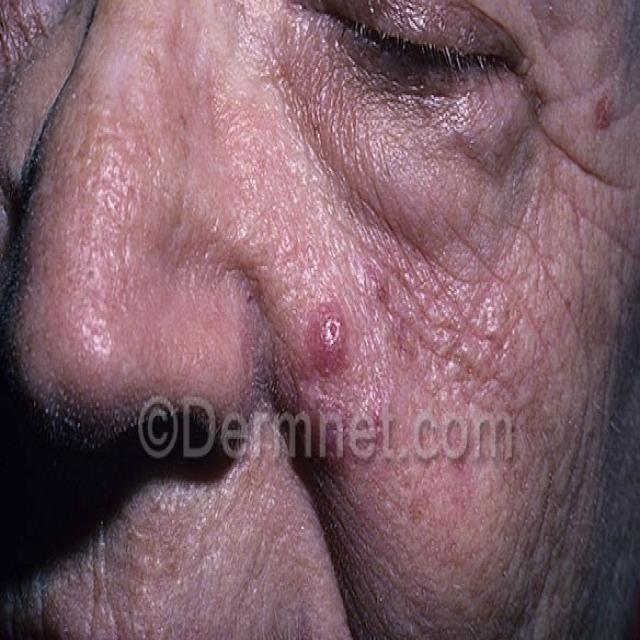Vascular Tumors: (283, 277, 362, 443), (375, 279, 446, 380), (580, 66, 628, 175)
